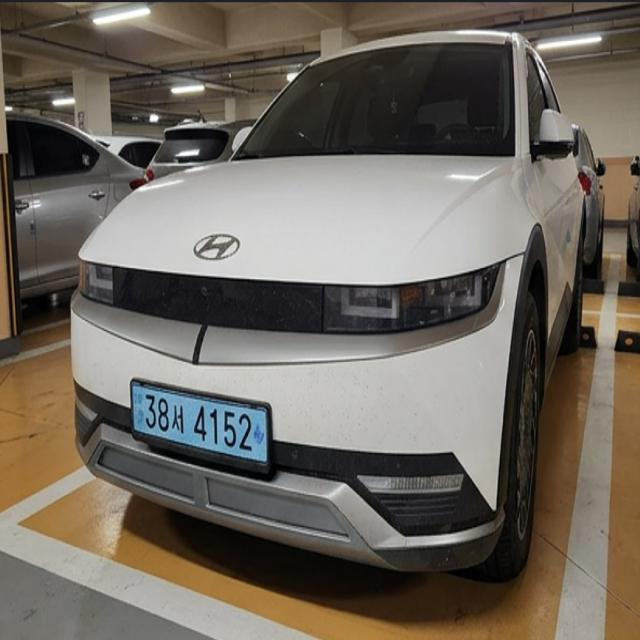car: (111, 355, 289, 490)
carev: (131, 383, 146, 439), (251, 407, 266, 462)
